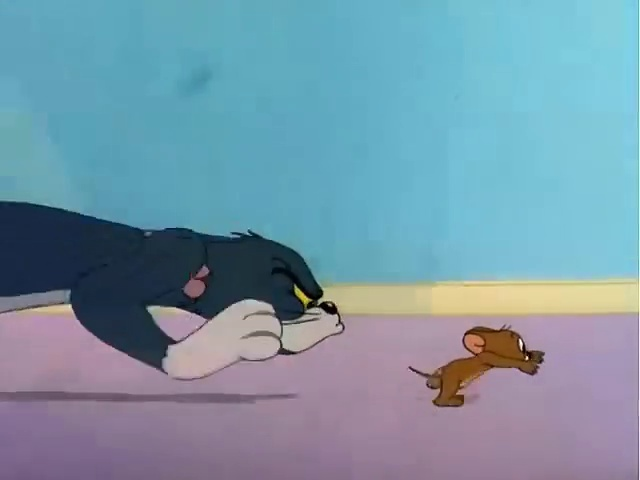jerry: (395, 292, 584, 415)
